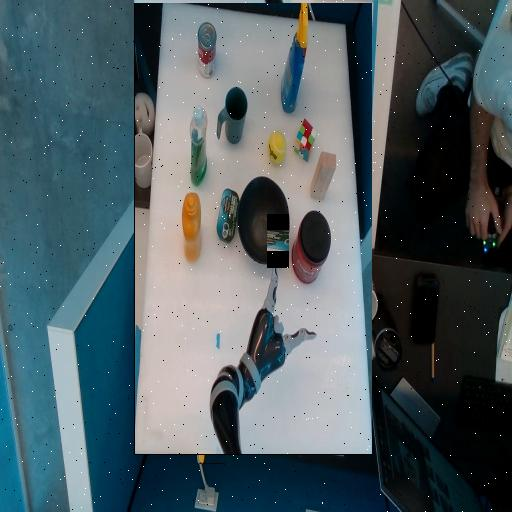bowl: (218, 194, 268, 279)
cleanser: (299, 303, 316, 319)
coffee_can: (175, 190, 214, 228)
jaco: (191, 75, 260, 196)
meat_can: (267, 230, 289, 251)
mug: (259, 313, 289, 369)
mustard_bottle: (306, 195, 324, 263)
rubik: (190, 295, 212, 338)
soup_can: (290, 379, 308, 434)
tennis_ball: (221, 294, 238, 324)
windex: (198, 345, 225, 463)
wooden_block: (171, 258, 195, 304)
workspace: (134, 3, 372, 454)
